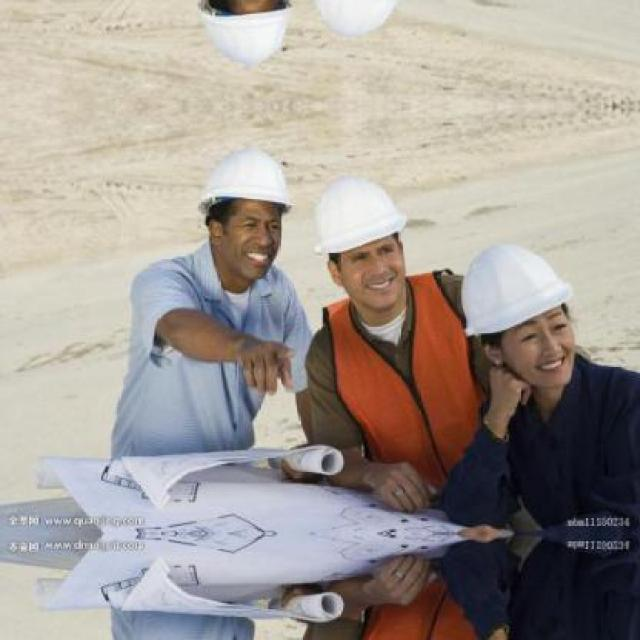helmet: (446, 234, 585, 400), (304, 171, 418, 315), (187, 139, 299, 285), (186, 0, 300, 74), (305, 0, 420, 42)
